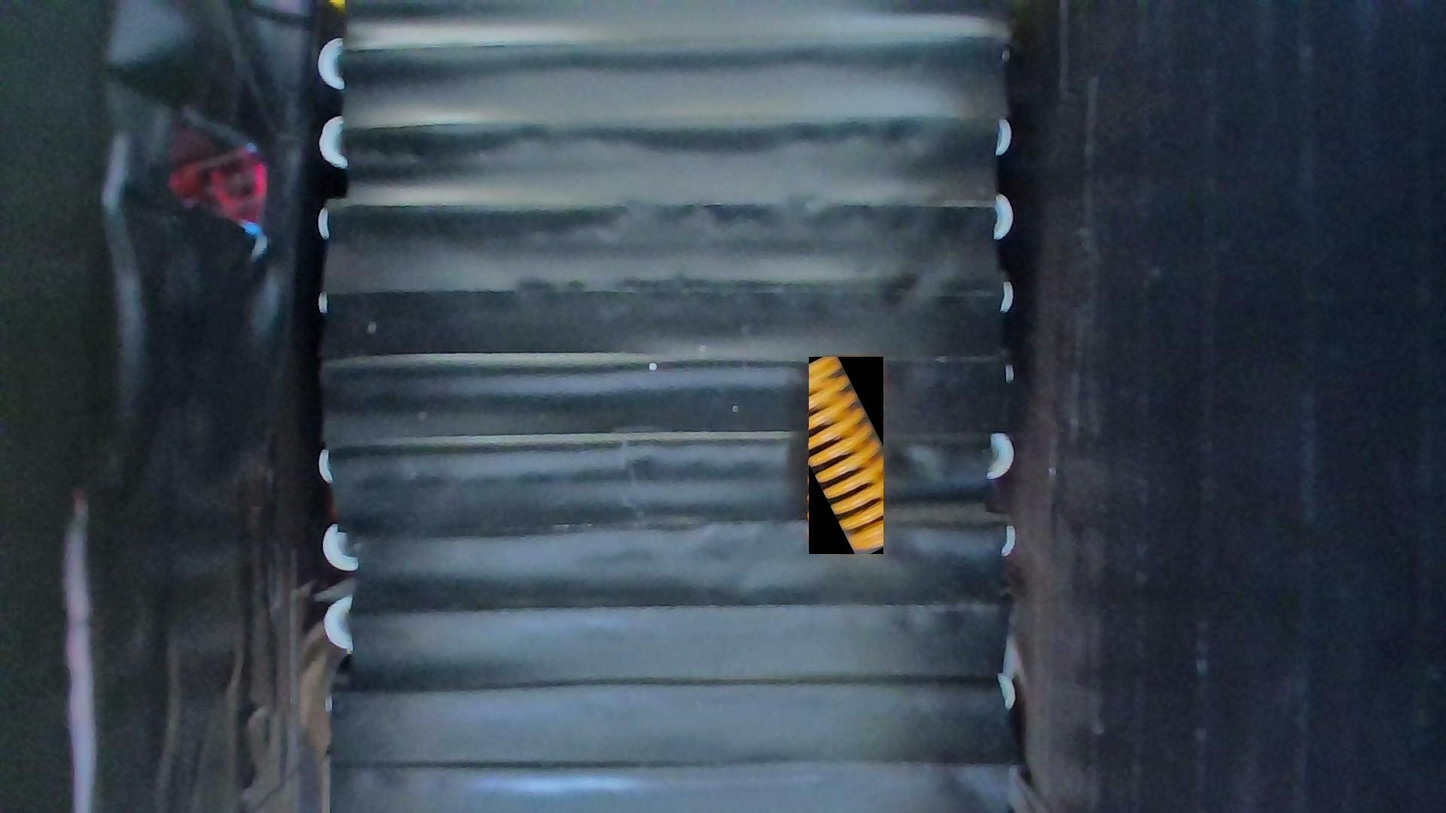spring: (809, 357, 884, 554)
